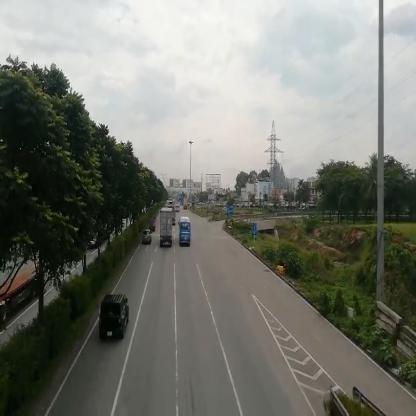bus: (180, 218, 191, 249)
car: (100, 296, 129, 341), (143, 231, 151, 246)
truck: (161, 210, 174, 246)
